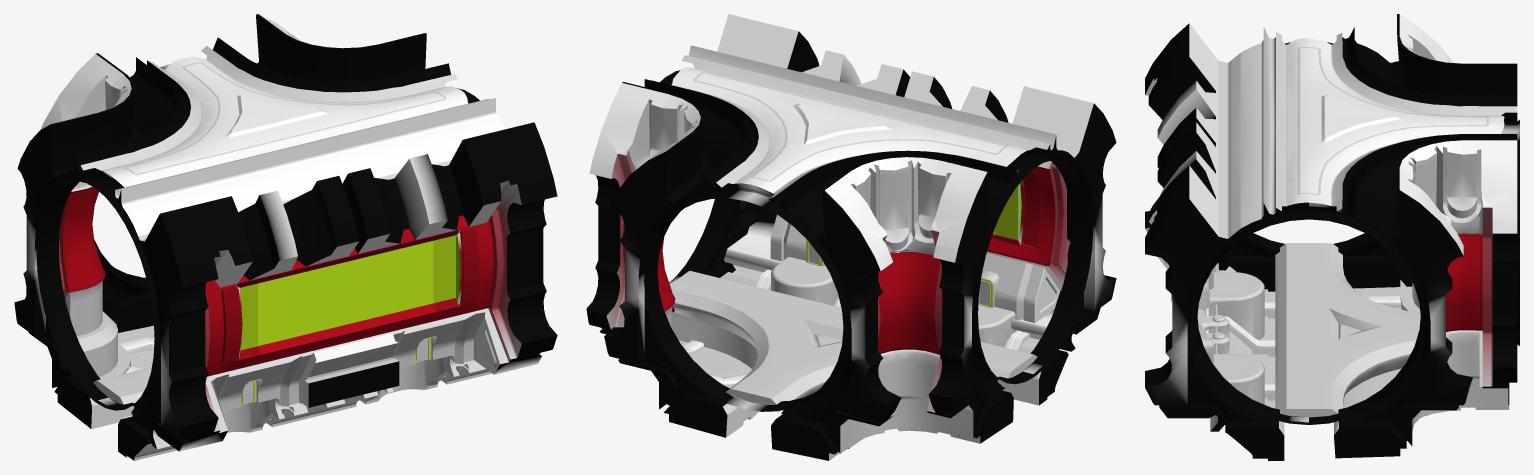
Rendered from part_main-lod0.dae.
3 views of the same model, side by side, from view 1: azimuth 30°, elevation 25°; view 2: azimuth 150°, elevation 25°; view 3: azimuth 270°, elevation 25° (orthographic). The views are drawn at different scales.
Parts seen in each view (by area): view 1: part_main-lod0Xlod0Xp2genericXgen_p2_hulltextureaged_02_b, part_main-lod0Xlod0Xp2genericXgen_p2_hullpattern_01, part_main-lod0Xlod0Xp2genericXgen_p2_hulltexture_02_c, part_main-lod0Xlod0Xp2multimatXp2_multimat_01, part_main-lod0Xlod0Xp2genericXgen_p2_fx_01; view 2: part_main-lod0Xlod0Xp2genericXgen_p2_hulltextureaged_02_b, part_main-lod0Xlod0Xp2genericXgen_p2_hullpattern_01, part_main-lod0Xlod0Xp2genericXgen_p2_hulltexture_02_c, part_main-lod0Xlod0Xp2multimatXp2_multimat_01; view 3: part_main-lod0Xlod0Xp2genericXgen_p2_hulltextureaged_02_b, part_main-lod0Xlod0Xp2genericXgen_p2_hullpattern_01, part_main-lod0Xlod0Xp2genericXgen_p2_hulltexture_02_c, part_main-lod0Xlod0Xp2multimatXp2_multimat_01.
Boxes of the visible parts, x1,y1,x2,y2 form: part_main-lod0Xlod0Xp2genericXgen_p2_hulltextureaged_02_b: [15, 14, 557, 460]; part_main-lod0Xlod0Xp2genericXgen_p2_hullpattern_01: [14, 14, 557, 460]; part_main-lod0Xlod0Xp2genericXgen_p2_hulltexture_02_c: [69, 56, 505, 354]; part_main-lod0Xlod0Xp2multimatXp2_multimat_01: [64, 181, 492, 405]; part_main-lod0Xlod0Xp2genericXgen_p2_fx_01: [308, 361, 399, 407]; part_main-lod0Xlod0Xp2genericXgen_p2_hulltextureaged_02_b: [587, 45, 1115, 460]; part_main-lod0Xlod0Xp2genericXgen_p2_hullpattern_01: [586, 14, 1116, 460]; part_main-lod0Xlod0Xp2genericXgen_p2_hulltexture_02_c: [644, 67, 1061, 239]; part_main-lod0Xlod0Xp2multimatXp2_multimat_01: [657, 77, 1053, 353]; part_main-lod0Xlod0Xp2genericXgen_p2_hulltextureaged_02_b: [1145, 14, 1519, 447]; part_main-lod0Xlod0Xp2genericXgen_p2_hullpattern_01: [1145, 14, 1517, 460]; part_main-lod0Xlod0Xp2genericXgen_p2_hulltexture_02_c: [1231, 38, 1517, 235]; part_main-lod0Xlod0Xp2multimatXp2_multimat_01: [1158, 132, 1479, 330].
Size of the model in its own units: 32.39 by 23.26 by 28.8.
